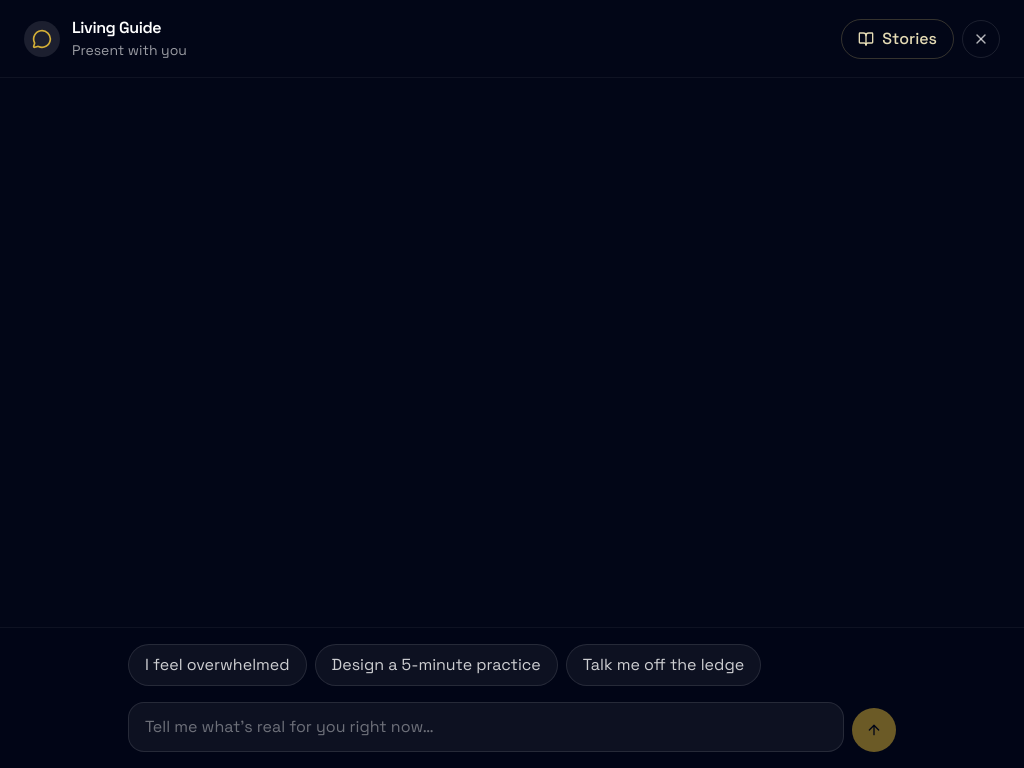
Test: GuidePage › shows provider failure as an error and retries without duplicating the user message
The image size is (1024, 768).
Step 1. Type "Can you help me with work?" into the text box named "Message the Living Guide" → [486, 727], box x1=128 y1=702 x2=844 y2=752
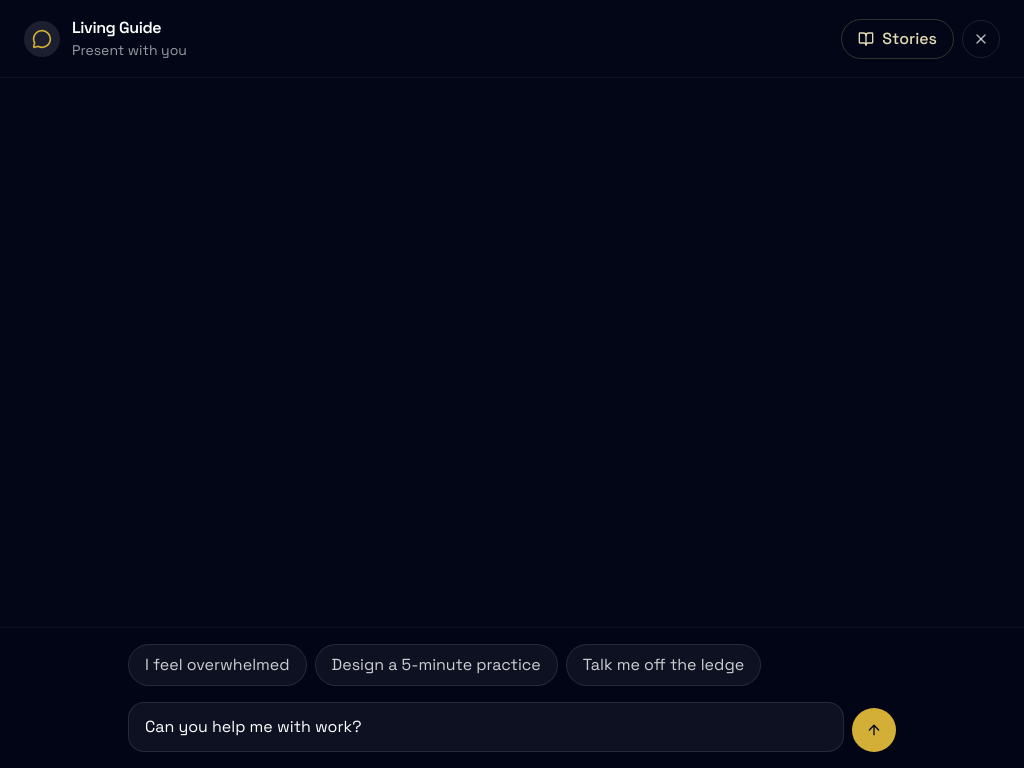
Step 2. Click the button named "Send message" → [874, 730], box x1=852 y1=708 x2=896 y2=752
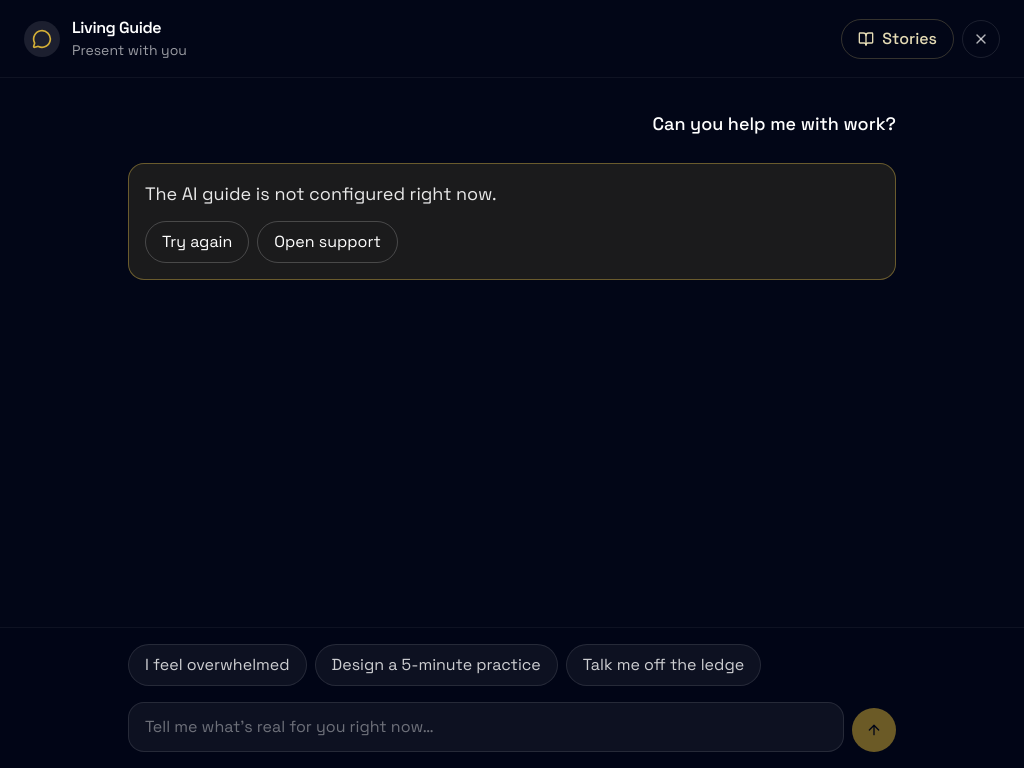
Check: the text "I can help you think through that." is not shown
Check: the message shows "The AI guide is not configured right now.", box x1=145 y1=182 x2=496 y2=205
Step 3. Click the button "Try again" → [197, 242], box x1=145 y1=221 x2=249 y2=263
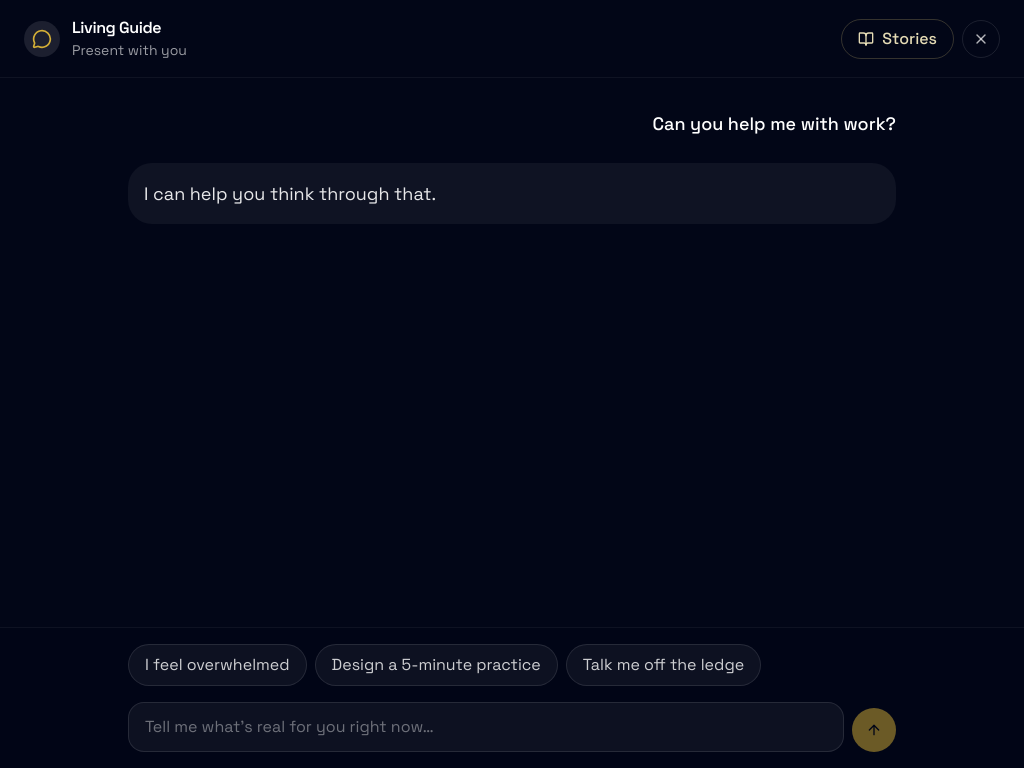
Check: the text "Can you help me with work?" is shown once, box x1=652 y1=112 x2=896 y2=135
Check: the text "I can help you think through that." is shown, box x1=128 y1=163 x2=896 y2=224
Check: the message "The AI guide is not configured right now. Try again Open support" is gone
